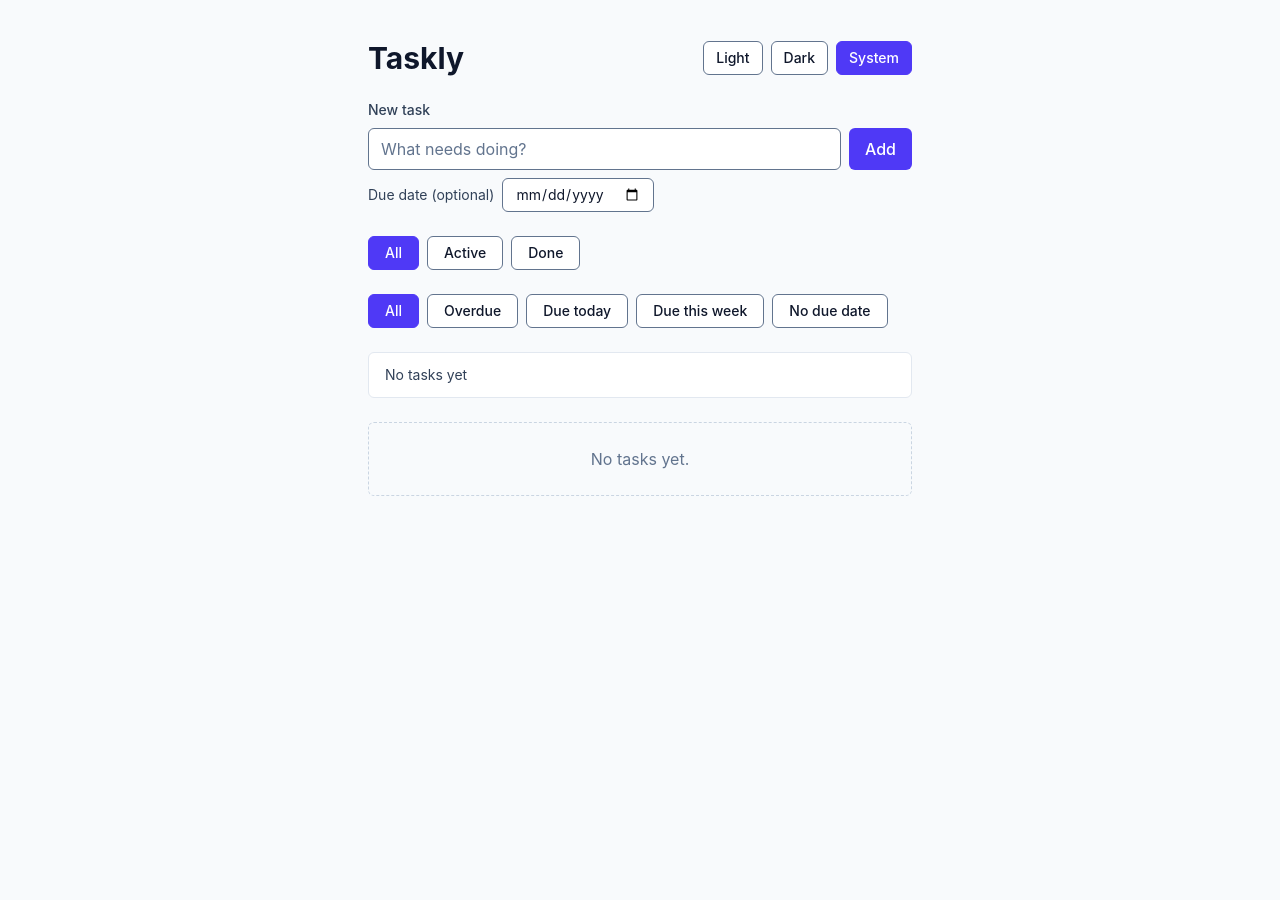
Test: App › adds, toggles and deletes tasks
The image size is (1280, 900).
Expected: the text "No tasks yet." is shown, [368,422,912,496]
Type "Buy milk" into the field labelled "New task" at point(604, 149), box [368,128,841,170]
Then press Enter
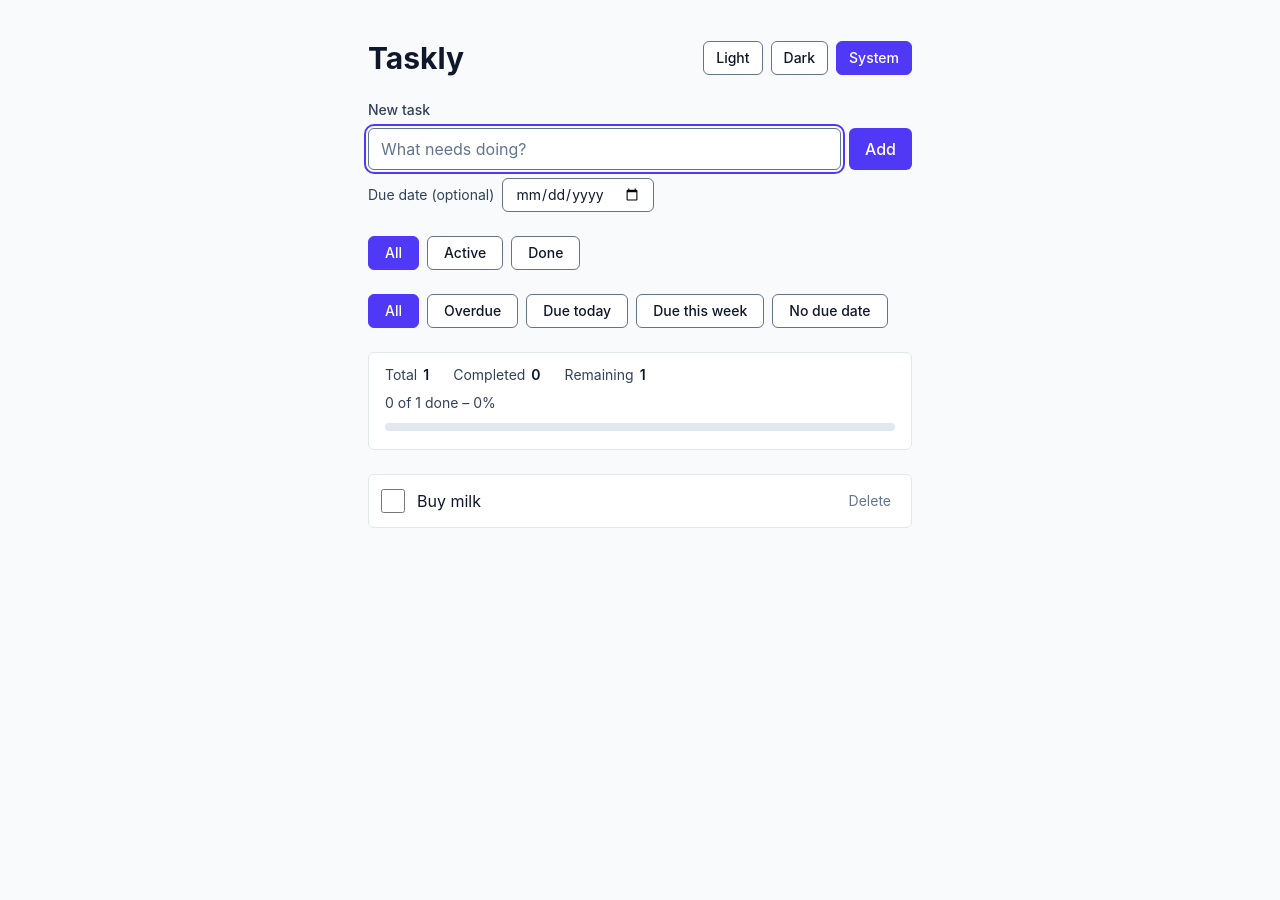
Type "Walk the dog" into the field labelled "New task" at point(604, 149), box [368,128,841,170]
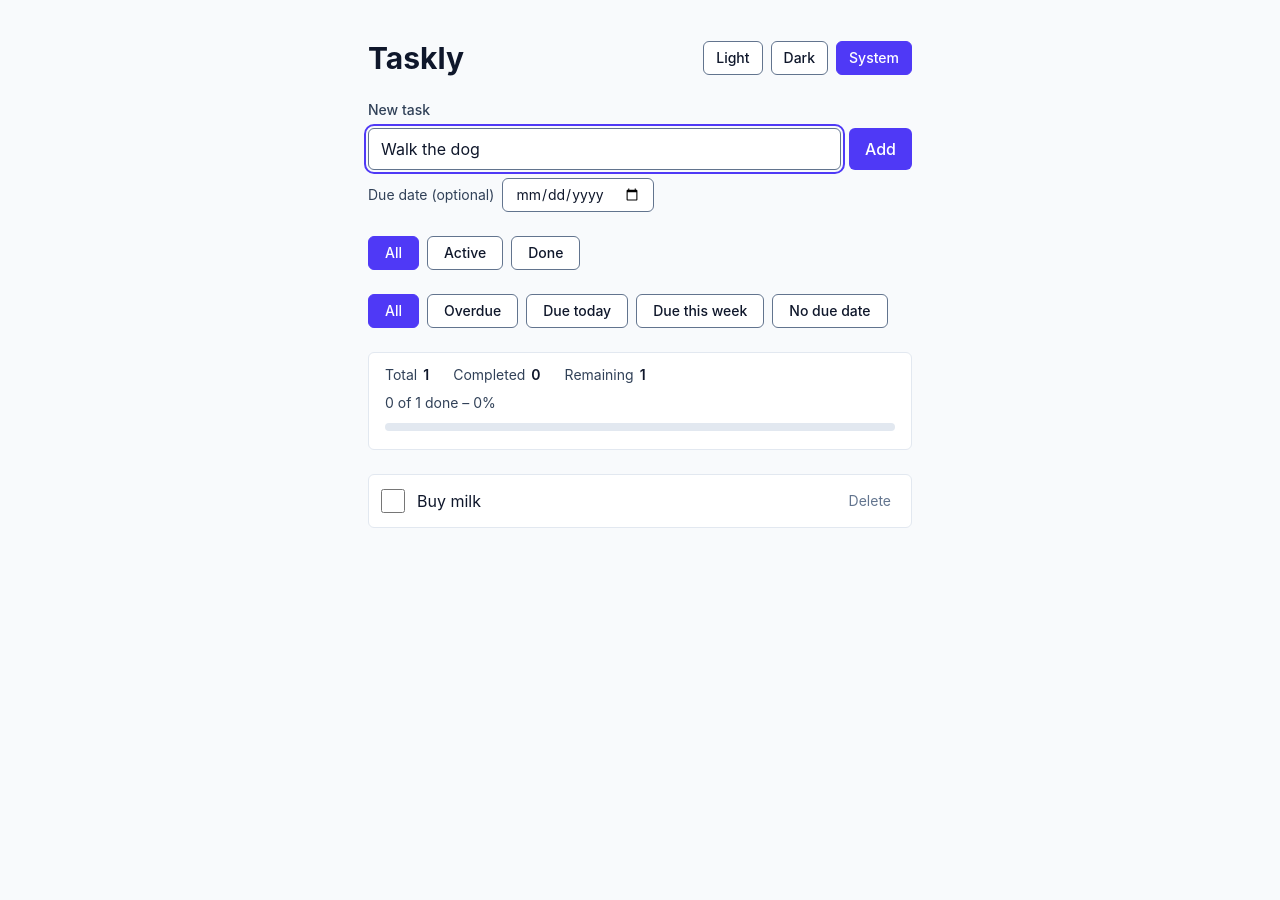
Click the button "Add" at point(880, 149), box [849,128,912,170]
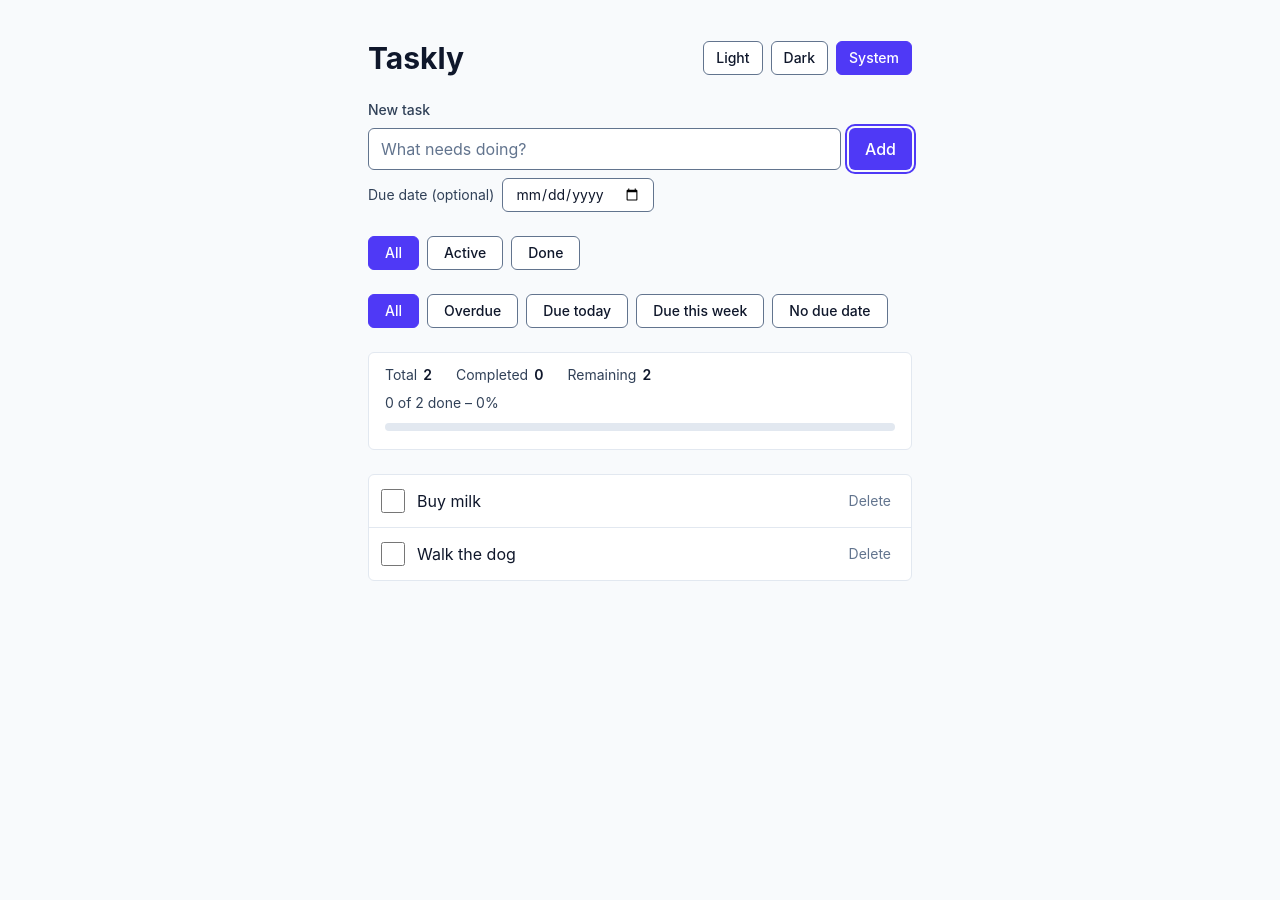
Now the list item "Buy milk Delete" is shown, box [369,475,911,528]
Now the number of list items is 2, box [369,475,911,528]; [381,540,899,568]
Now the list item "Walk the dog Delete" is shown, box [381,540,899,568]
Click the checkbox labelled "Buy milk" at point(393, 501), box [381,489,405,513]
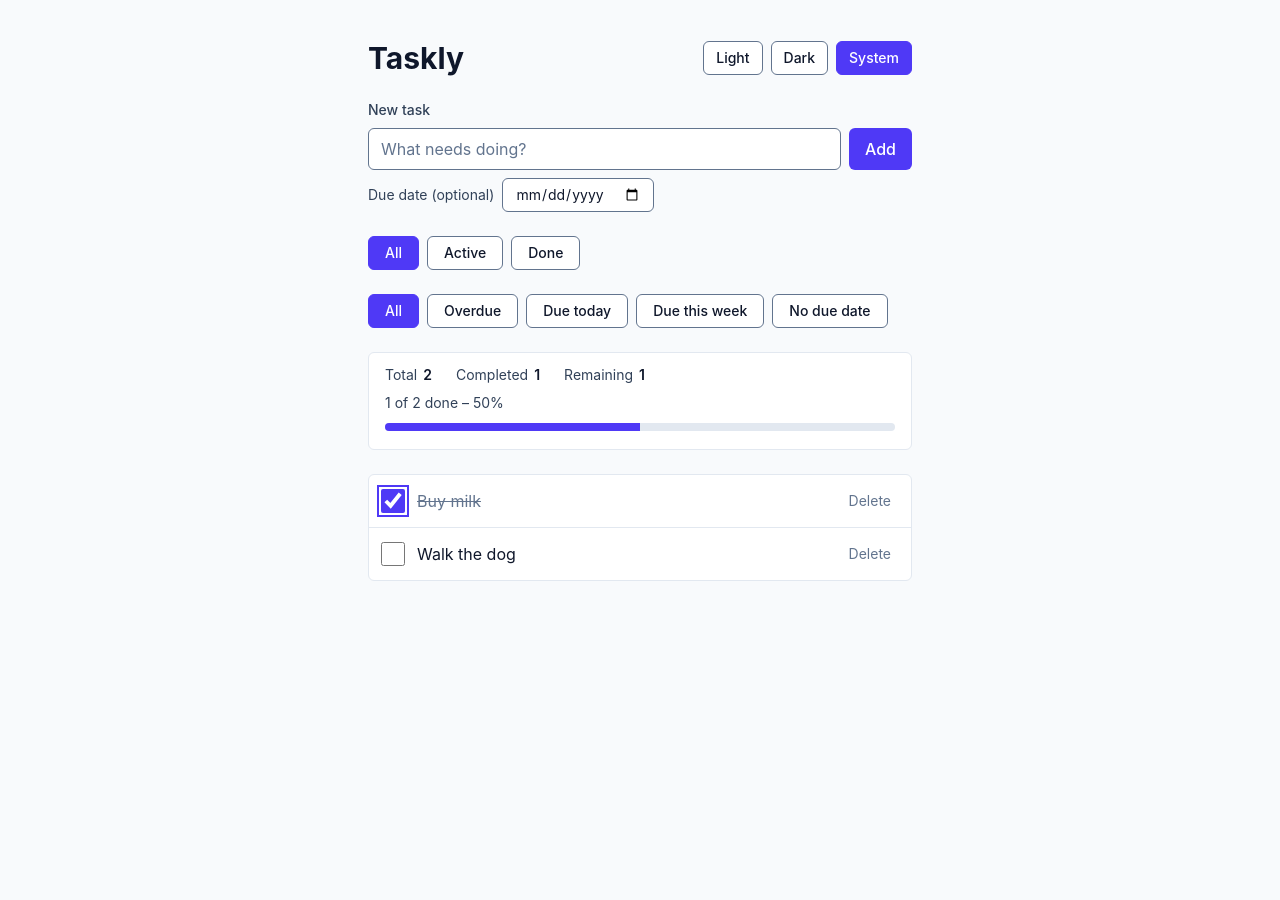
Now the checkbox labelled "Buy milk" is checked, box [381,489,405,513]
Now the checkbox labelled "Walk the dog" is not checked, box [381,542,405,566]
Click the button "Delete" in the row of "Walk the dog" at point(870, 554), box [841,540,899,568]
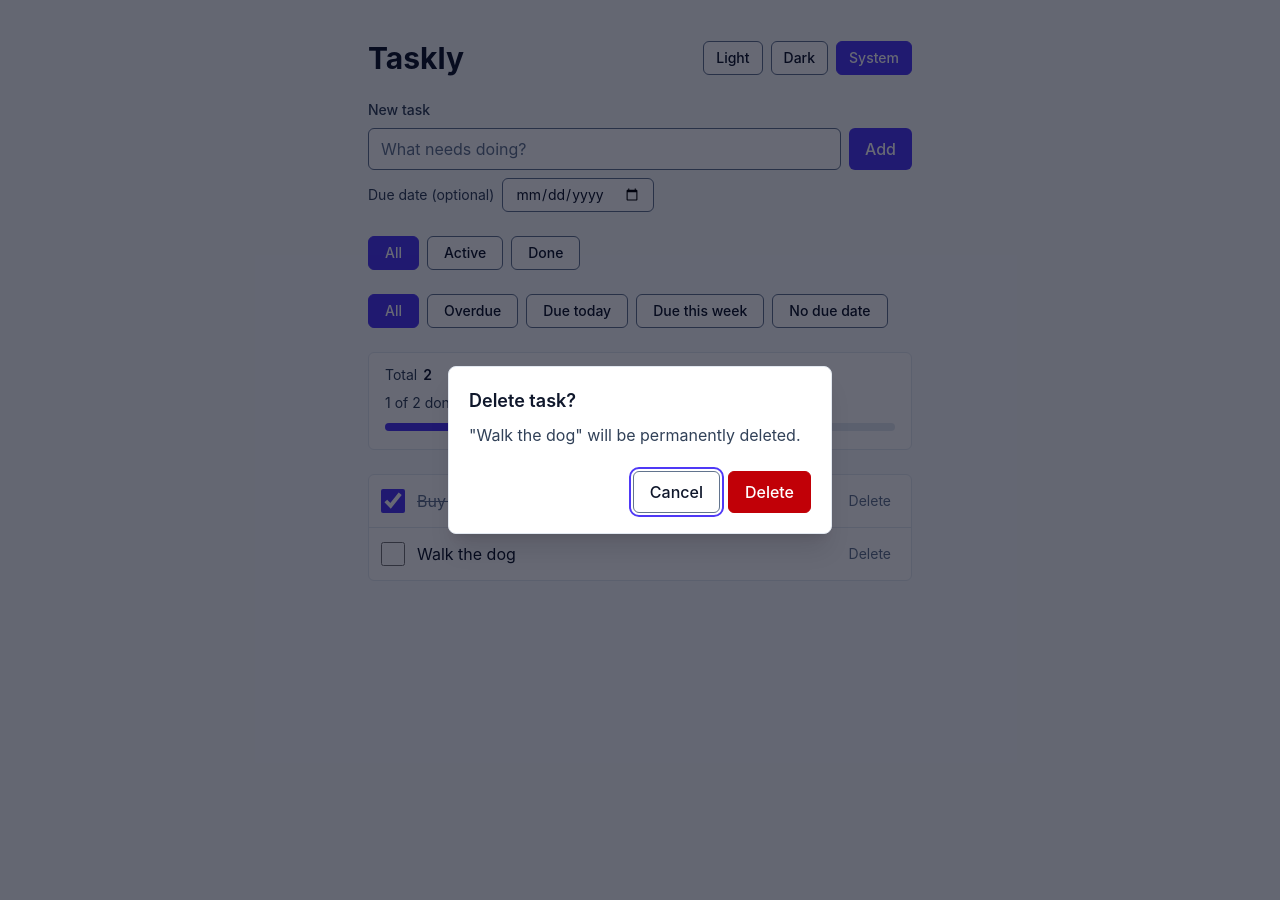
Click the button "Delete" at point(769, 492), box [728,471,811,513]
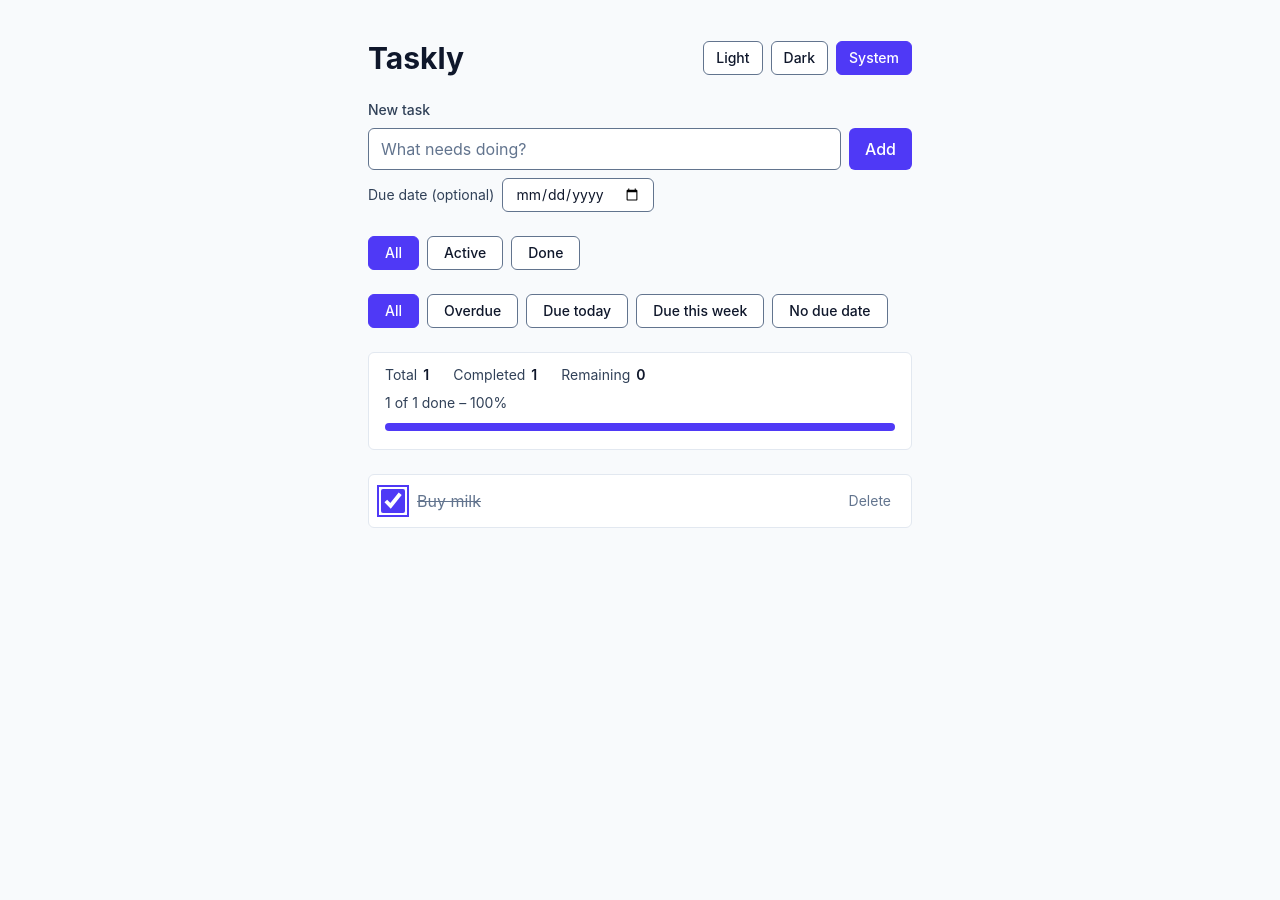
Now the checkbox labelled "Buy milk" is checked, box [381,489,405,513]
Now the list item shows "Buy milk", box [417,491,481,511]
Now the number of list items is 1, box [381,487,899,515]
